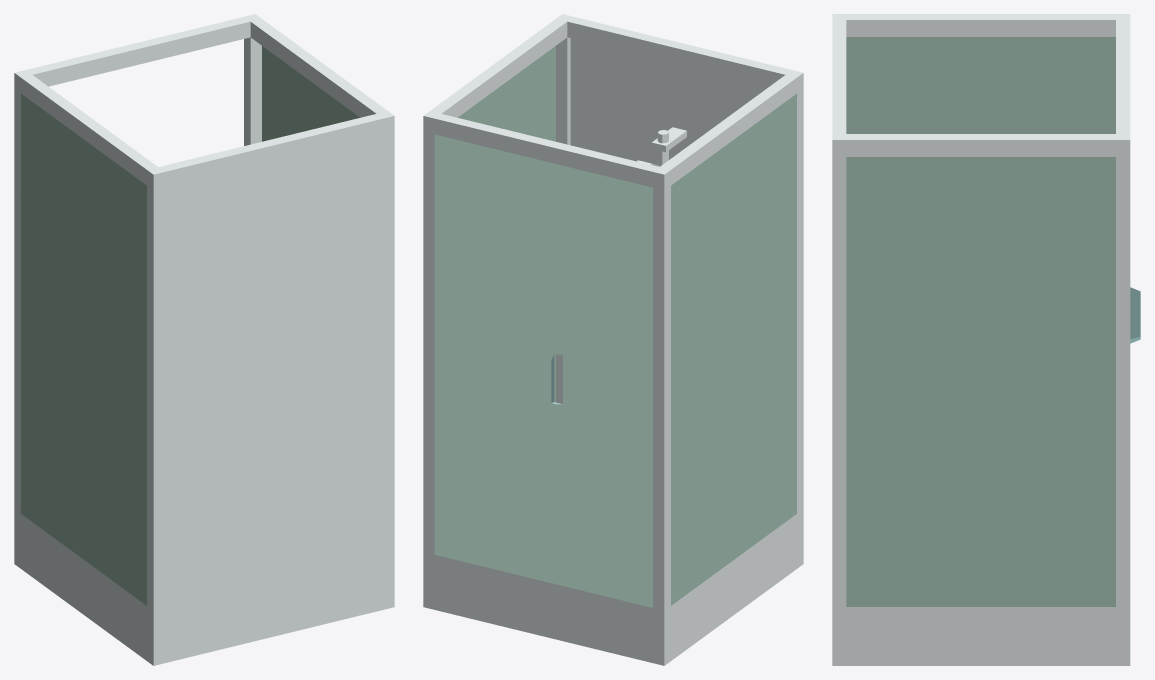
The model's file is shower.glb.
3 views of the same model, side by side, from view 1: azimuth 30°, elevation 25°; view 2: azimuth 150°, elevation 25°; view 3: azimuth 270°, elevation 25° (orthographic). The views are drawn at different scales.
Bounding box in the file's own units: 5.62 × 10.94 × 5.82.
